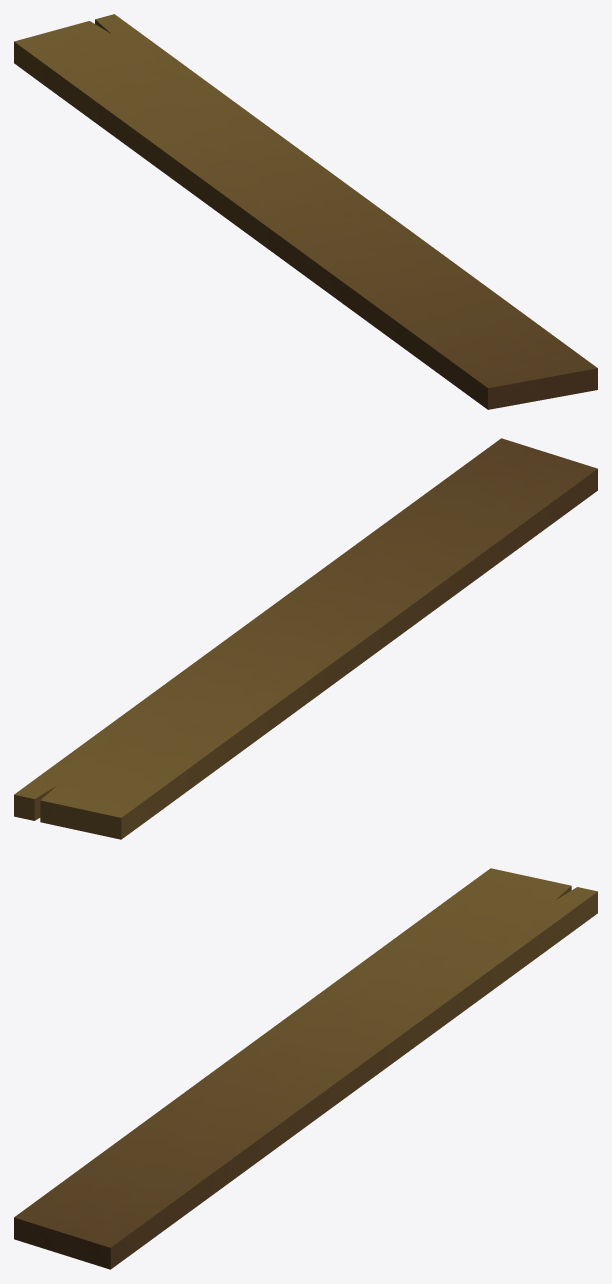
File: Fbx_Plank.fbx
The picture shows the model from 3 angles, top to bottom: view 1: azimuth 30°, elevation 25°; view 2: azimuth 150°, elevation 25°; view 3: azimuth 330°, elevation 25°; orthographic projection.
Visible parts, largest first — view 1: Plank; view 2: Plank; view 3: Plank.
Boxes of the visible parts, x1,y1,x2,y2 form: Plank: [14, 14, 597, 409]; Plank: [14, 438, 597, 839]; Plank: [14, 868, 597, 1269].
Bounding box in the file's own units: 100 × 20 × 808.
